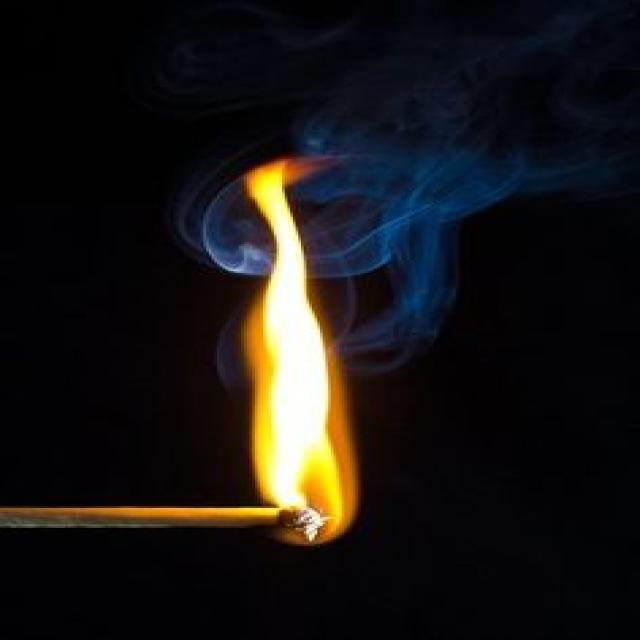Fire: (188, 149, 400, 570), (318, 81, 564, 305)
